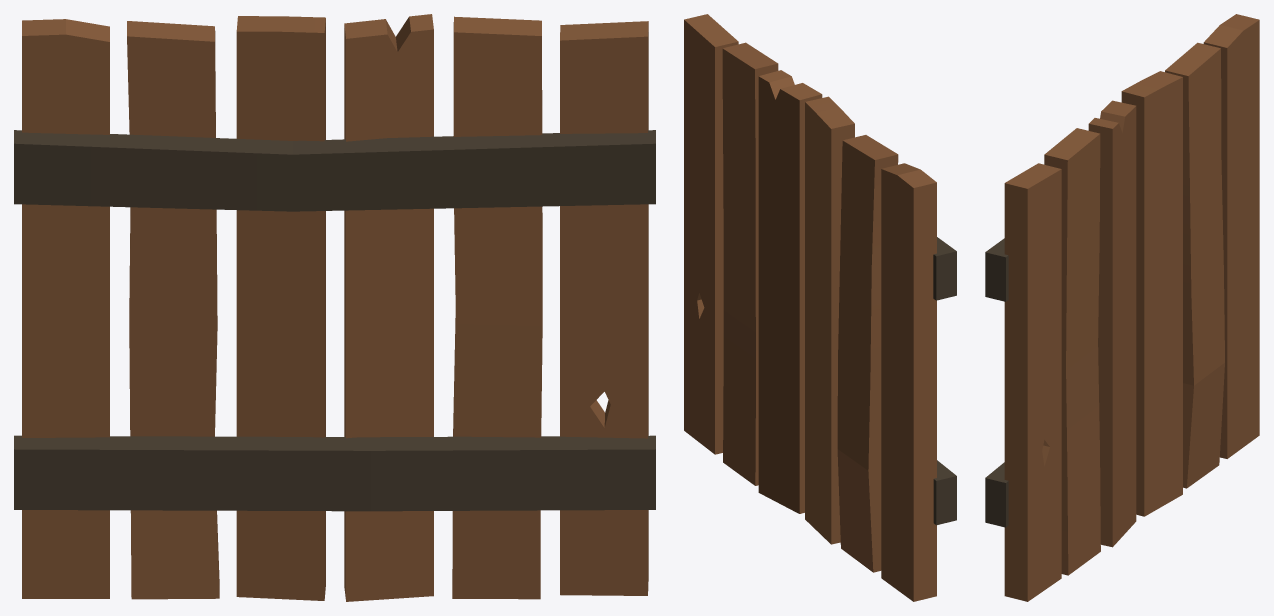
File: Fence_Breakable_A (4).fbx
3 views of the same model, side by side, from view 1: azimuth 30°, elevation 25°; view 2: azimuth 150°, elevation 25°; view 3: azimuth 270°, elevation 25° (orthographic). The views are drawn at different scales.
Parts seen in each view (by area): view 1: Fence_Breakable_A (4); view 2: Fence_Breakable_A (4); view 3: Fence_Breakable_A (4).
Part boxes in pixels (x1,y1,x2,y2): Fence_Breakable_A (4): [14, 14, 655, 601]; Fence_Breakable_A (4): [684, 14, 956, 601]; Fence_Breakable_A (4): [985, 14, 1259, 601].
Size of the model in its own units: 4.07 by 4.4 by 2.61.
